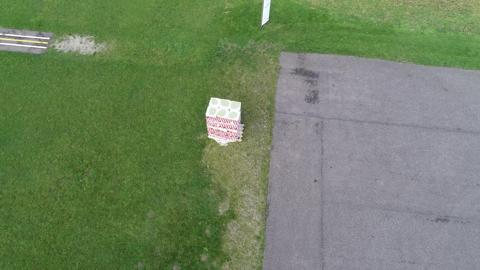RockwoolPallet: (203, 95, 243, 139)
